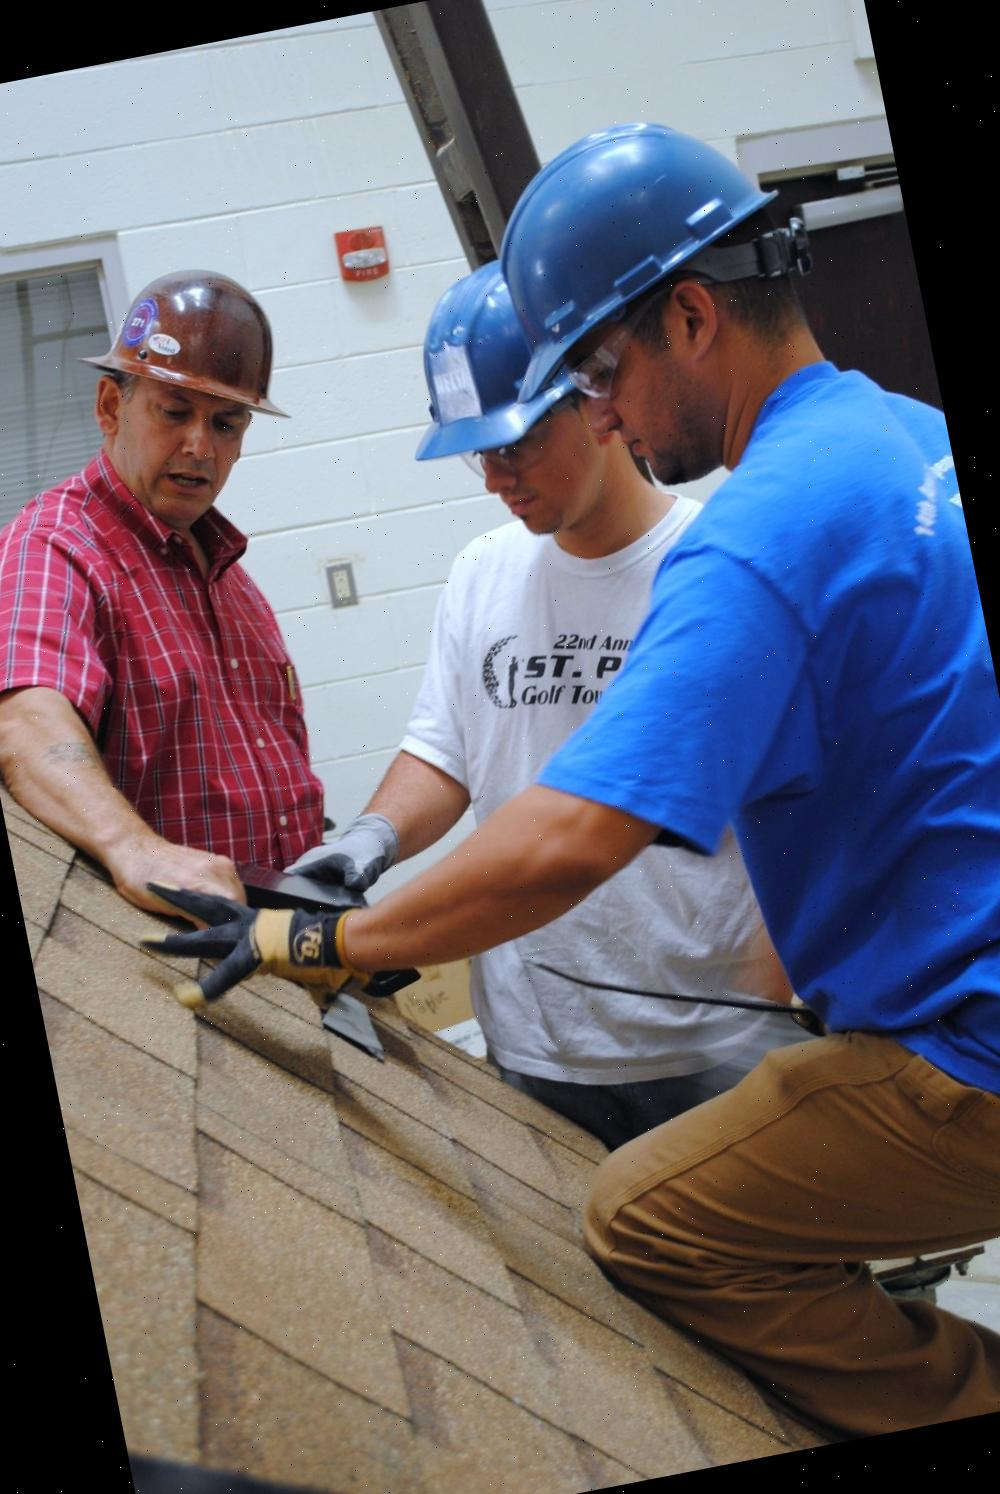helmet: (472, 91, 808, 411), (377, 244, 614, 474), (64, 251, 298, 463)
no_wear: (646, 391, 1000, 1126), (397, 489, 788, 1101), (0, 486, 342, 914)
